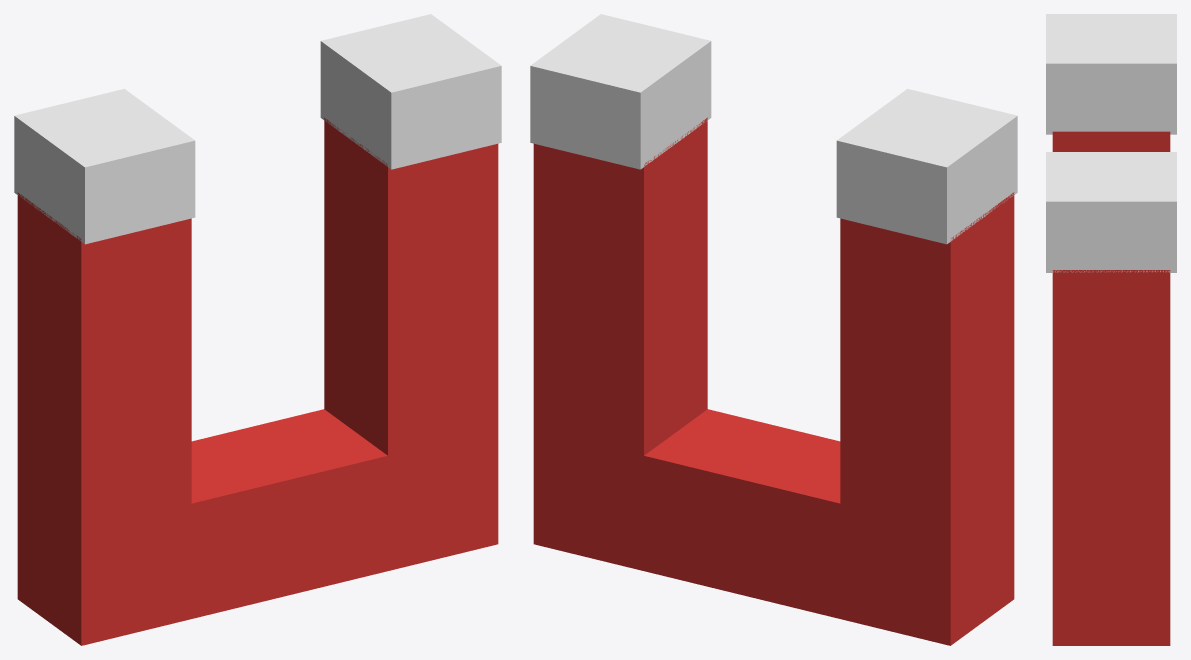
The model's file is powerup_shockwave.glb.
3 renders of one model, left to right at view 1: azimuth 30°, elevation 25°; view 2: azimuth 150°, elevation 25°; view 3: azimuth 270°, elevation 25°, orthographic. The views are drawn at different scales.
Visible parts, largest first — view 1: powerup_magnet; view 2: powerup_magnet; view 3: powerup_magnet.
Part boxes in pixels (x1=…): powerup_magnet: x1=14, y1=14, x2=501, y2=645; powerup_magnet: x1=530, y1=14, x2=1017, y2=645; powerup_magnet: x1=1046, y1=14, x2=1176, y2=645.
Size of the model in its own units: 0.68 by 0.75 by 0.2.
